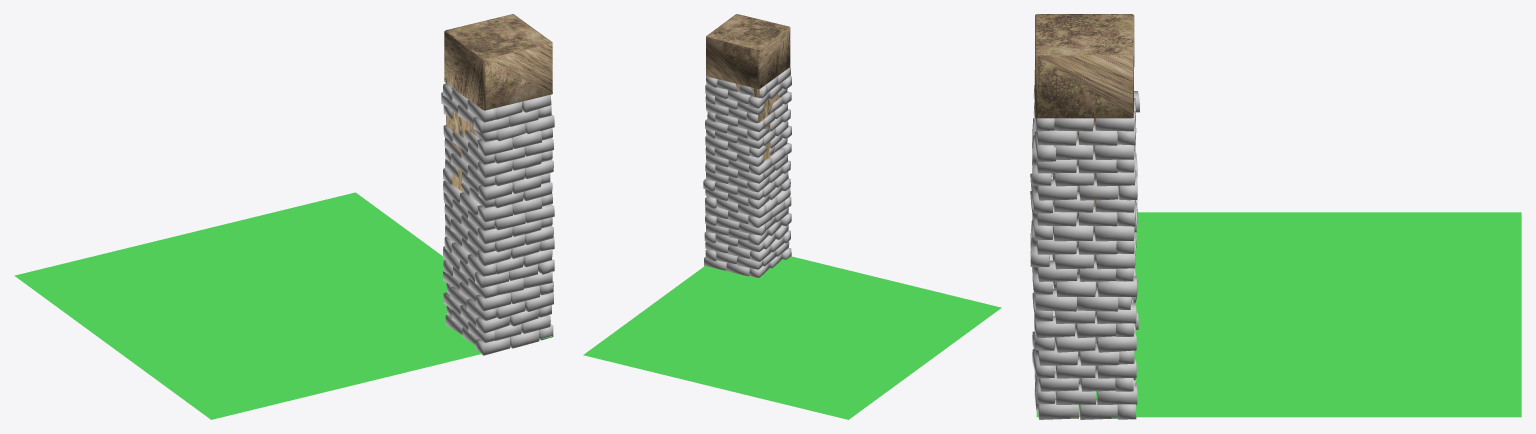
File: InnerCornerLod1.fbx
3 renders of one model, left to right at view 1: azimuth 30°, elevation 25°; view 2: azimuth 150°, elevation 25°; view 3: azimuth 270°, elevation 25°, orthographic. The views are drawn at different scales.
Visible parts, largest first — view 1: InnerCornerLod1; view 2: InnerCornerLod1; view 3: InnerCornerLod1.
Part boxes in pixels (x1=…): InnerCornerLod1: x1=14, y1=14, x2=554, y2=419; InnerCornerLod1: x1=583, y1=14, x2=1001, y2=419; InnerCornerLod1: x1=1030, y1=14, x2=1521, y2=419.
Bounding box in the file's own units: 404 × 331 × 405.
